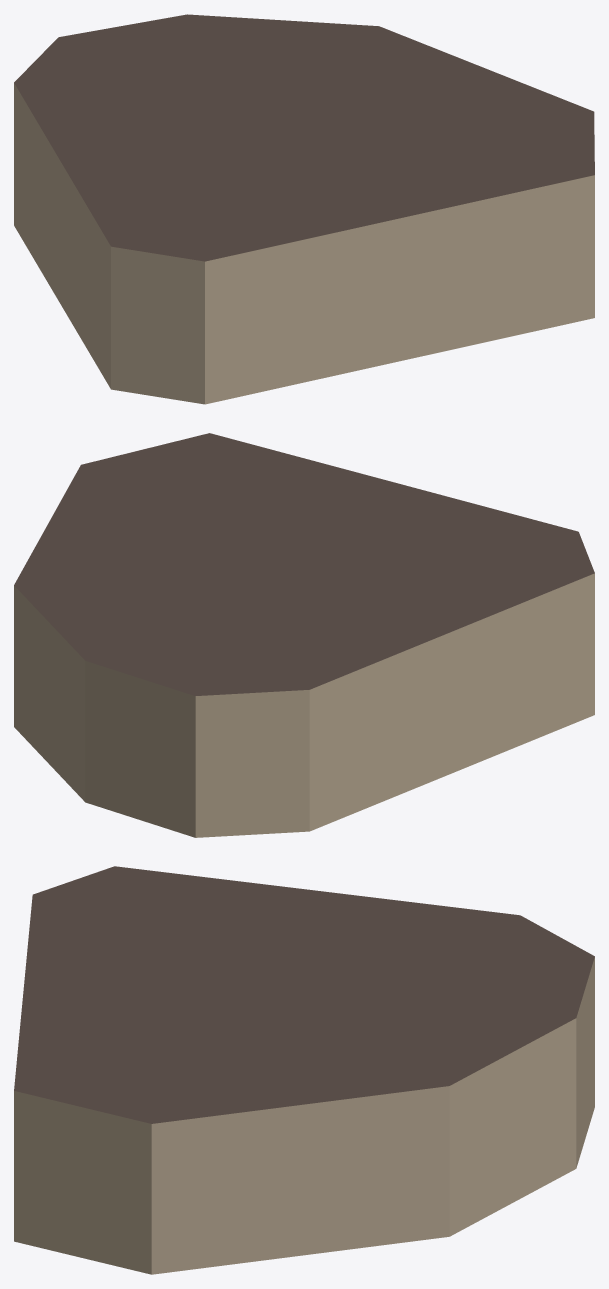
3 renders of one model, top to bottom at view 1: azimuth 30°, elevation 25°; view 2: azimuth 150°, elevation 25°; view 3: azimuth 270°, elevation 25°, orthographic. The views are drawn at different scales.
Parts seen in each view (by area): view 1: HP-w369549537; view 2: HP-w369549537; view 3: HP-w369549537.
Boxes of the visible parts, x1=… form: HP-w369549537: x1=14, y1=14, x2=594, y2=404; HP-w369549537: x1=14, y1=433, x2=594, y2=837; HP-w369549537: x1=14, y1=866, x2=594, y2=1274.
Bounding box in the file's own units: 33 × 9 × 31.43.
